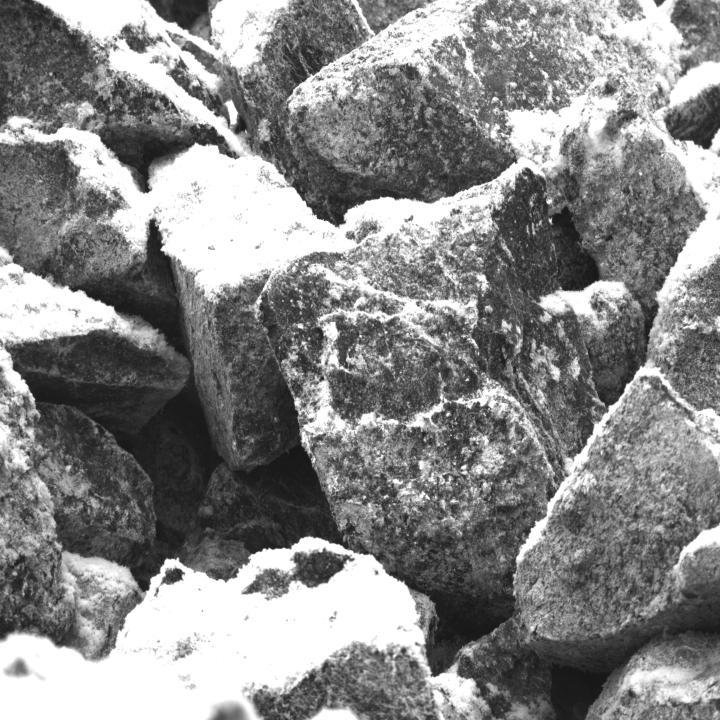stone: (252, 158, 606, 609), (284, 0, 686, 219), (514, 361, 720, 675), (149, 144, 334, 477), (0, 253, 193, 391), (0, 118, 153, 290), (34, 402, 157, 568)
